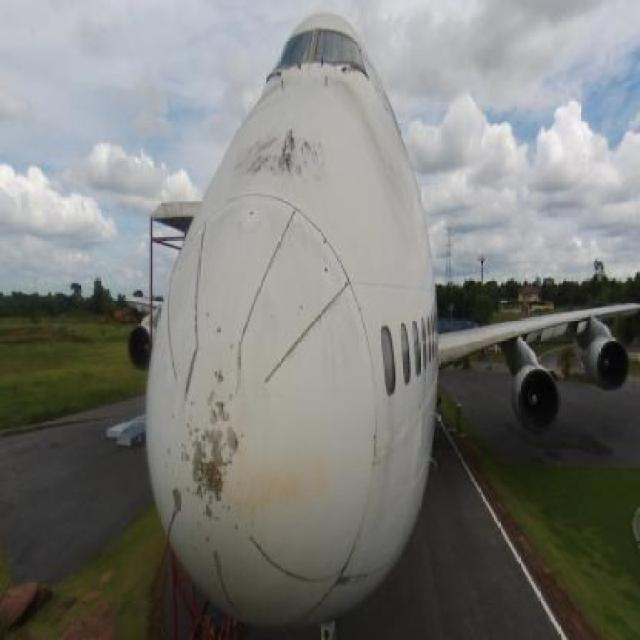Rust: (339, 78, 408, 202), (229, 451, 351, 517), (194, 452, 228, 500)
Scartch: (240, 130, 334, 198), (176, 412, 241, 506), (162, 481, 198, 527), (337, 557, 358, 595)
